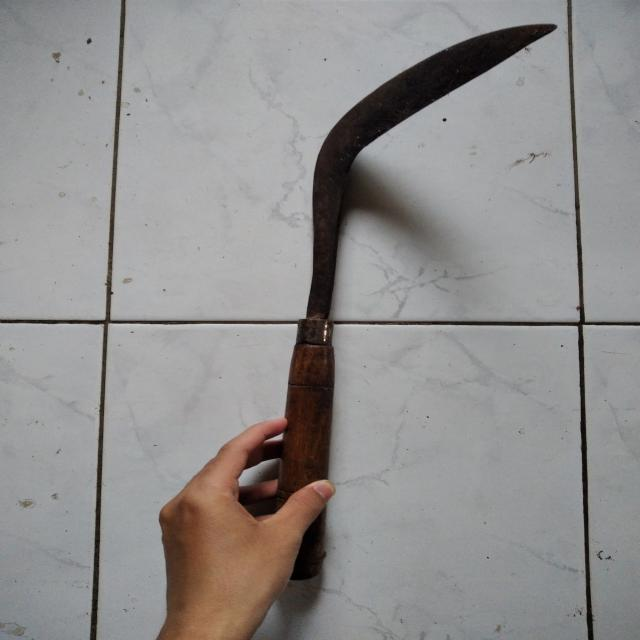Celurit: (272, 25, 563, 576)
